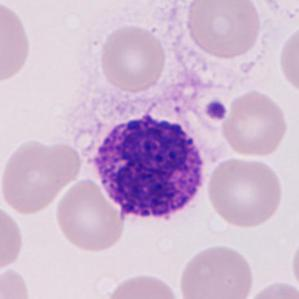Basophil: (86, 110, 212, 229)
Platelets: (204, 98, 228, 123)
RBC: (204, 154, 286, 230), (53, 176, 128, 254), (0, 137, 67, 216), (219, 87, 290, 159), (98, 22, 168, 92), (184, 0, 264, 61), (176, 241, 256, 299), (0, 0, 33, 87), (30, 138, 83, 189), (101, 269, 182, 299), (0, 202, 25, 272), (276, 22, 299, 95), (242, 278, 299, 299), (0, 264, 33, 299), (257, 0, 298, 23), (288, 232, 299, 295)
